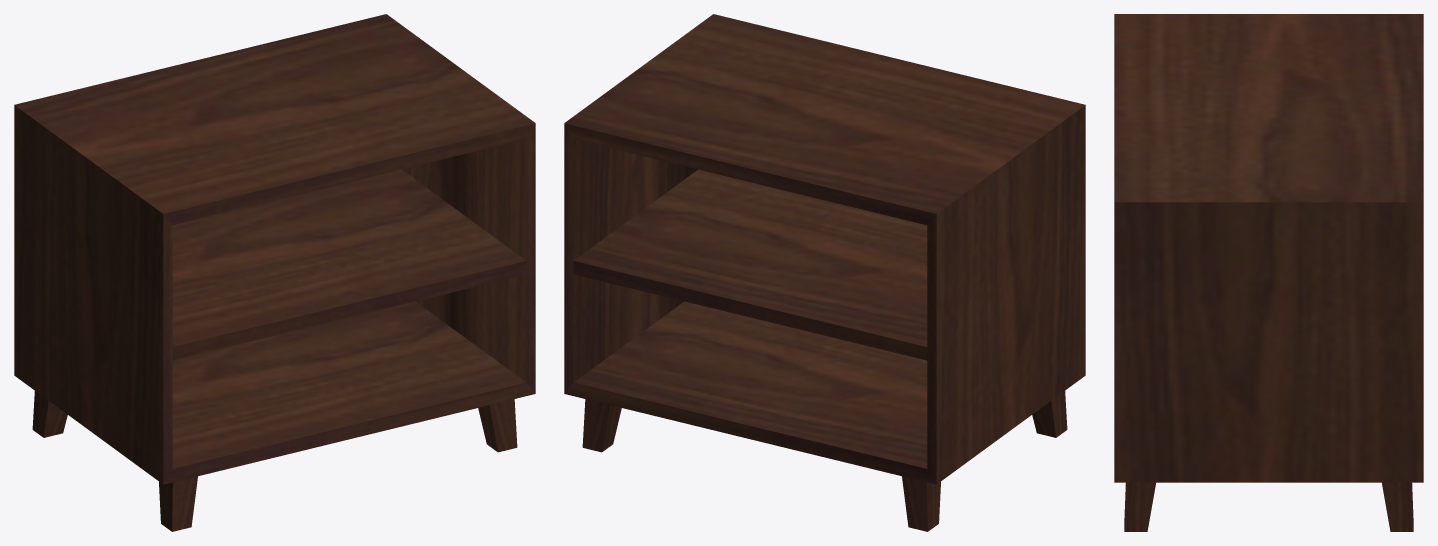
The model's file is Cabinet.fbx.
3 views of the same model, side by side, from view 1: azimuth 30°, elevation 25°; view 2: azimuth 150°, elevation 25°; view 3: azimuth 270°, elevation 25° (orthographic). The views are drawn at different scales.
Visible parts, largest first — view 1: Cabinet; view 2: Cabinet; view 3: Cabinet.
Part boxes in pixels (x1,y1,x2,y2): Cabinet: (14, 14, 535, 531); Cabinet: (564, 14, 1085, 531); Cabinet: (1114, 14, 1423, 531).
Size of the model in its own units: 72 by 60 by 50.
1 material, 1 textured.
